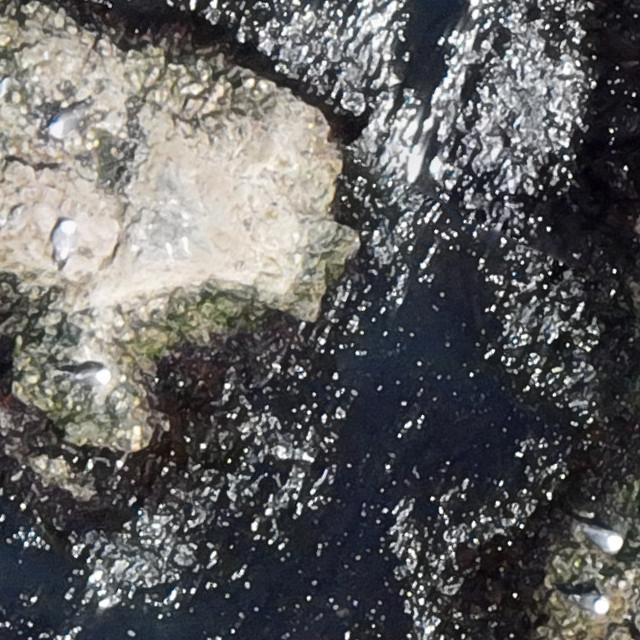umineko: (49, 103, 88, 141), (52, 220, 75, 266), (68, 363, 111, 386), (585, 529, 620, 553), (575, 592, 608, 613)
